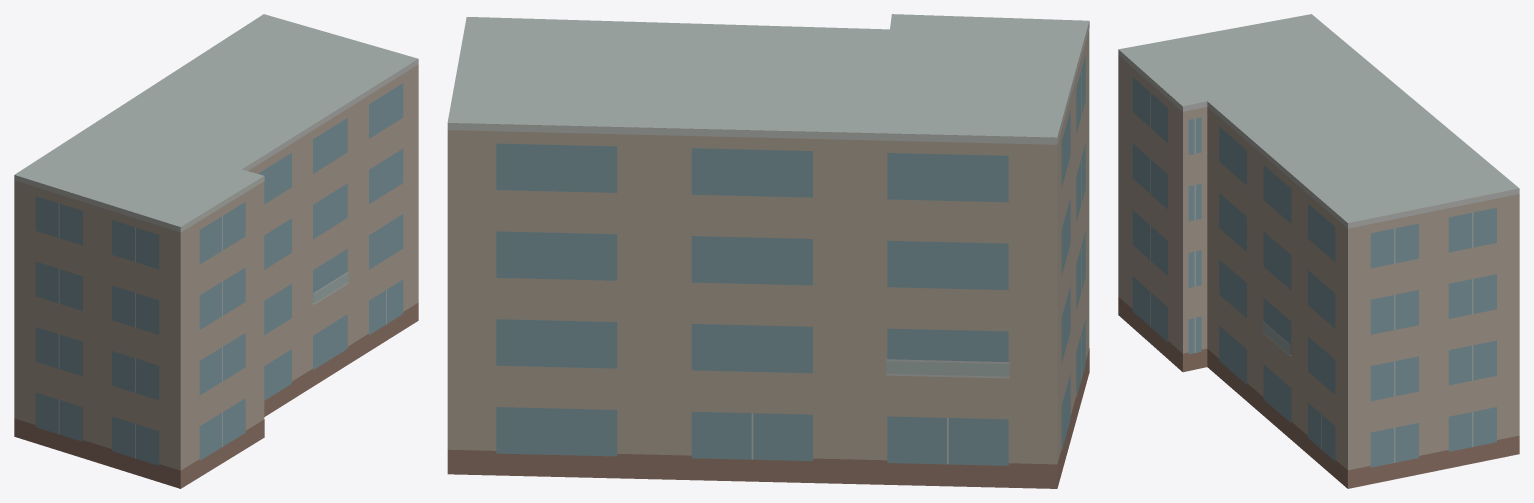
Rendered from survey-upis-32773704.glb.
3 renders of one model, left to right at view 1: azimuth 30°, elevation 25°; view 2: azimuth 150°, elevation 25°; view 3: azimuth 270°, elevation 25°, orthographic. The views are drawn at different scales.
Visible parts, largest first — view 1: survey-upis-32773704.tmp; view 2: survey-upis-32773704.tmp; view 3: survey-upis-32773704.tmp.
Boxes of the visible parts, x1,y1,x2,y2 form: survey-upis-32773704.tmp: [14, 14, 418, 488]; survey-upis-32773704.tmp: [447, 14, 1089, 488]; survey-upis-32773704.tmp: [1118, 14, 1519, 488].
Size of the model in its own units: 19.93 by 11.8 by 16.15.
